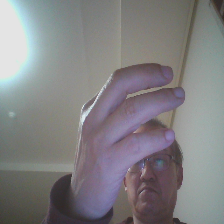hand: (70, 55, 177, 213)
